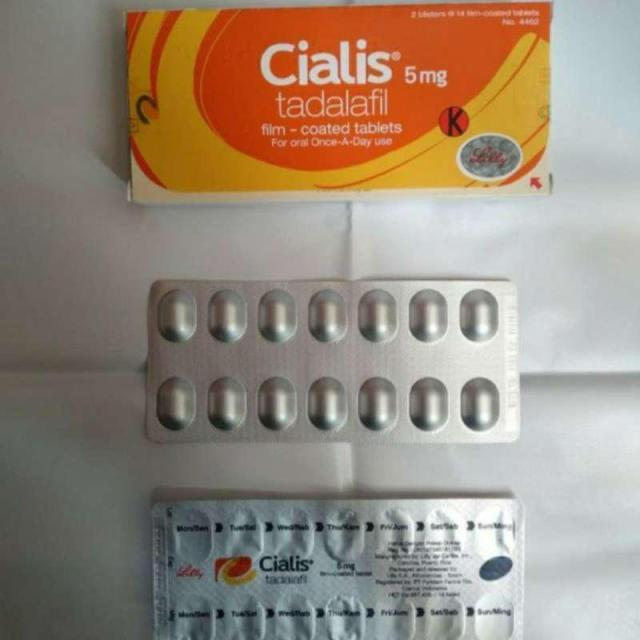drug-name: (256, 37, 399, 88)
